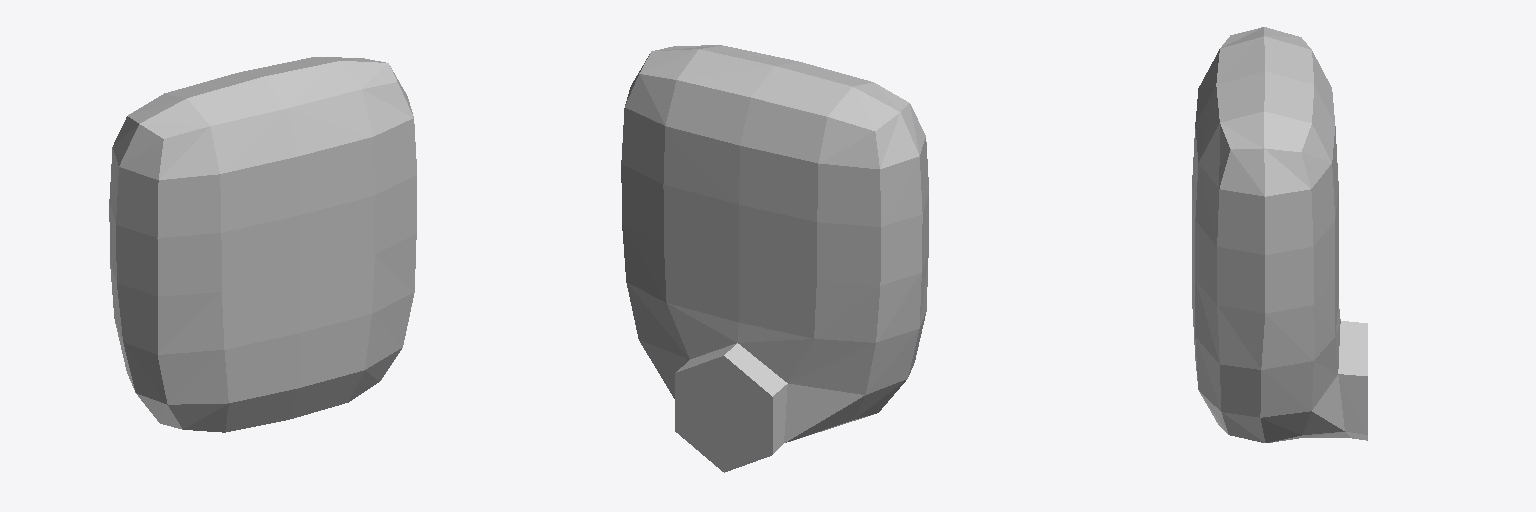
The model's file is WaterPack_Inner.obj.
3 renders of one model, left to right at view 1: azimuth 30°, elevation 25°; view 2: azimuth 150°, elevation 25°; view 3: azimuth 270°, elevation 25°, orthographic.
Parts seen in each view (by area): view 1: Cube.017; view 2: Cube.017; view 3: Cube.017.
Part boxes in pixels (bbox=[...]): Cube.017: bbox=[109, 57, 416, 432]; Cube.017: bbox=[621, 45, 928, 472]; Cube.017: bbox=[1192, 27, 1367, 442].
Bounding box in the file's own units: 1.39 × 1.66 × 0.7166.